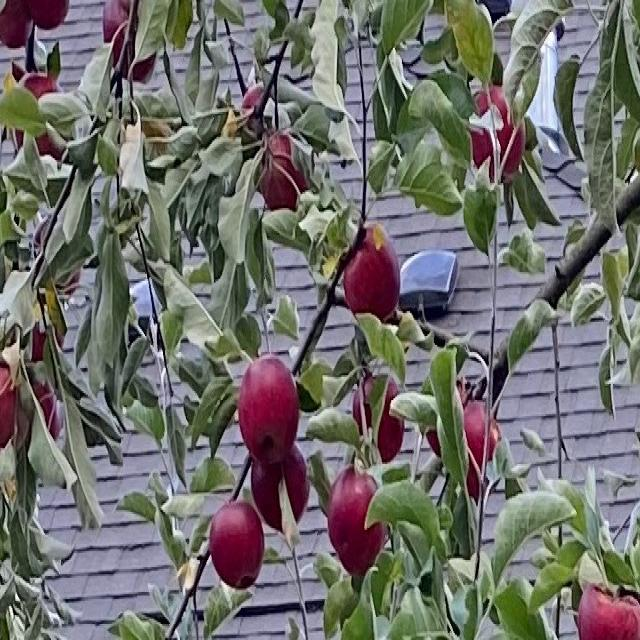Apples: (241, 358, 299, 462), (328, 470, 385, 574), (343, 224, 399, 320), (251, 442, 309, 530), (471, 89, 525, 183), (14, 74, 68, 164), (353, 372, 406, 462), (210, 503, 264, 589), (103, 0, 157, 77), (459, 398, 502, 492), (259, 134, 308, 212), (34, 221, 81, 295), (579, 583, 639, 638), (24, 377, 60, 439), (0, 0, 33, 50), (242, 85, 273, 134), (0, 366, 18, 450), (25, 0, 70, 29)
